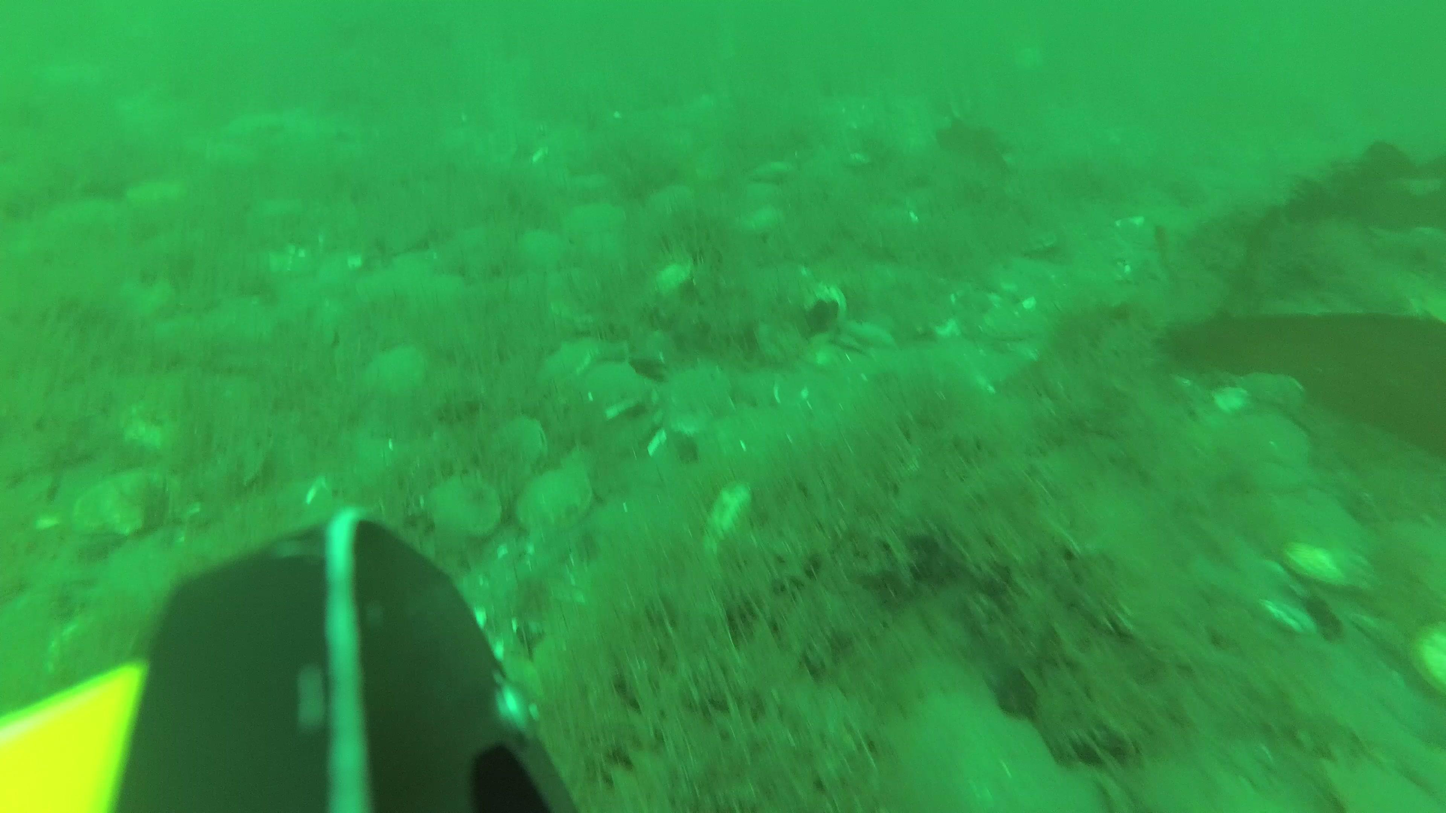scallop: (898, 695, 1068, 813), (73, 469, 176, 534), (1231, 413, 1315, 481), (514, 469, 591, 539), (1279, 495, 1360, 555), (1294, 540, 1382, 595), (433, 472, 500, 543), (488, 416, 548, 486), (662, 370, 733, 429), (579, 358, 645, 421), (538, 334, 604, 388), (979, 300, 1039, 351), (361, 347, 424, 394), (558, 202, 619, 242), (520, 228, 569, 274), (647, 182, 694, 218)
